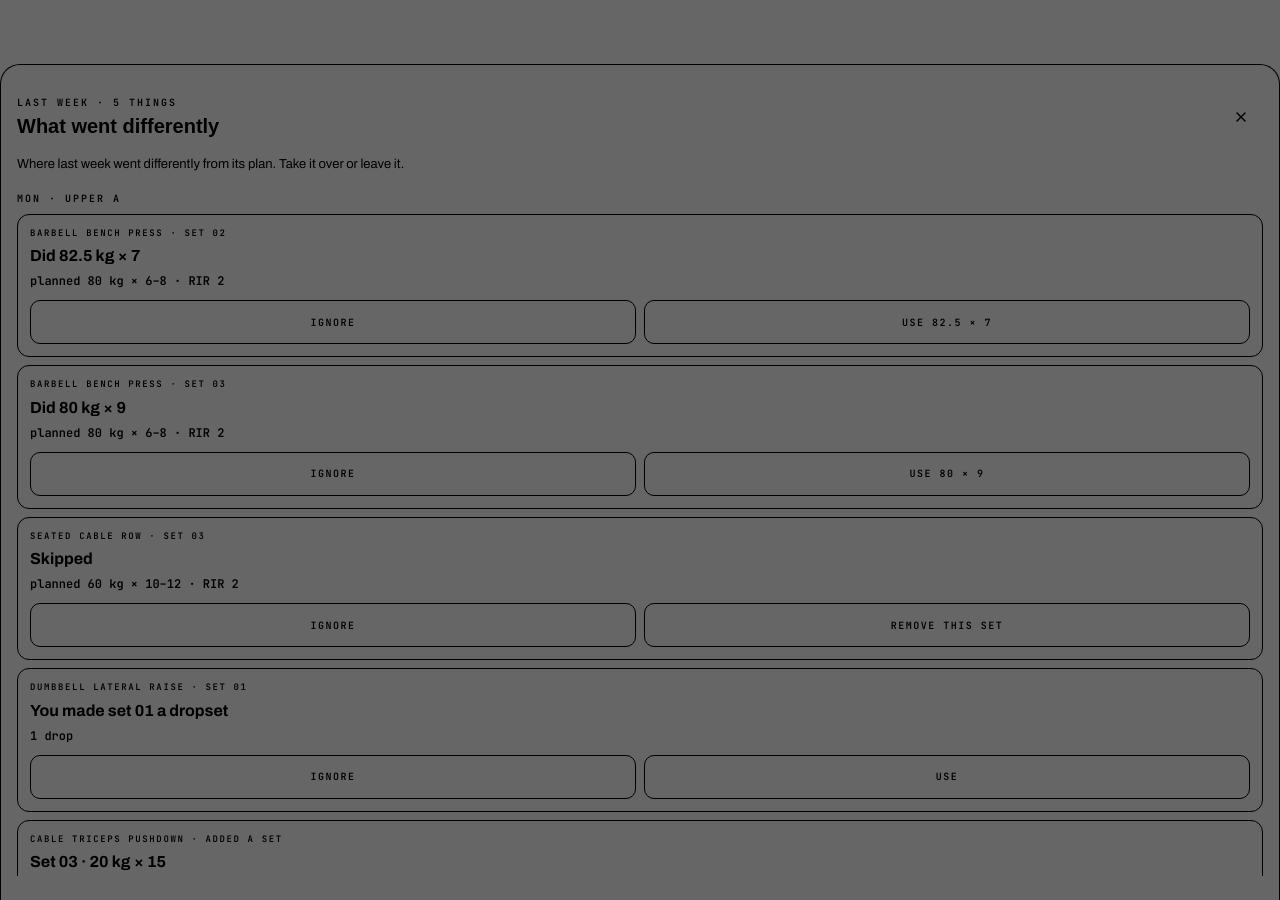
Test: W: each button writes what the board says and the item is gone for good › USE on the bench weight item: this week’s set 2 takes 82.5 × 7, one request holds the decision, the line counts 4
Check: the text "MON · UPPER A" is shown, box x1=17 y1=192 x2=121 y2=204
Click the button "USE 82.5 × 7". click: coordinates (947, 322)
box: x1=644 y1=300 x2=1250 y2=344
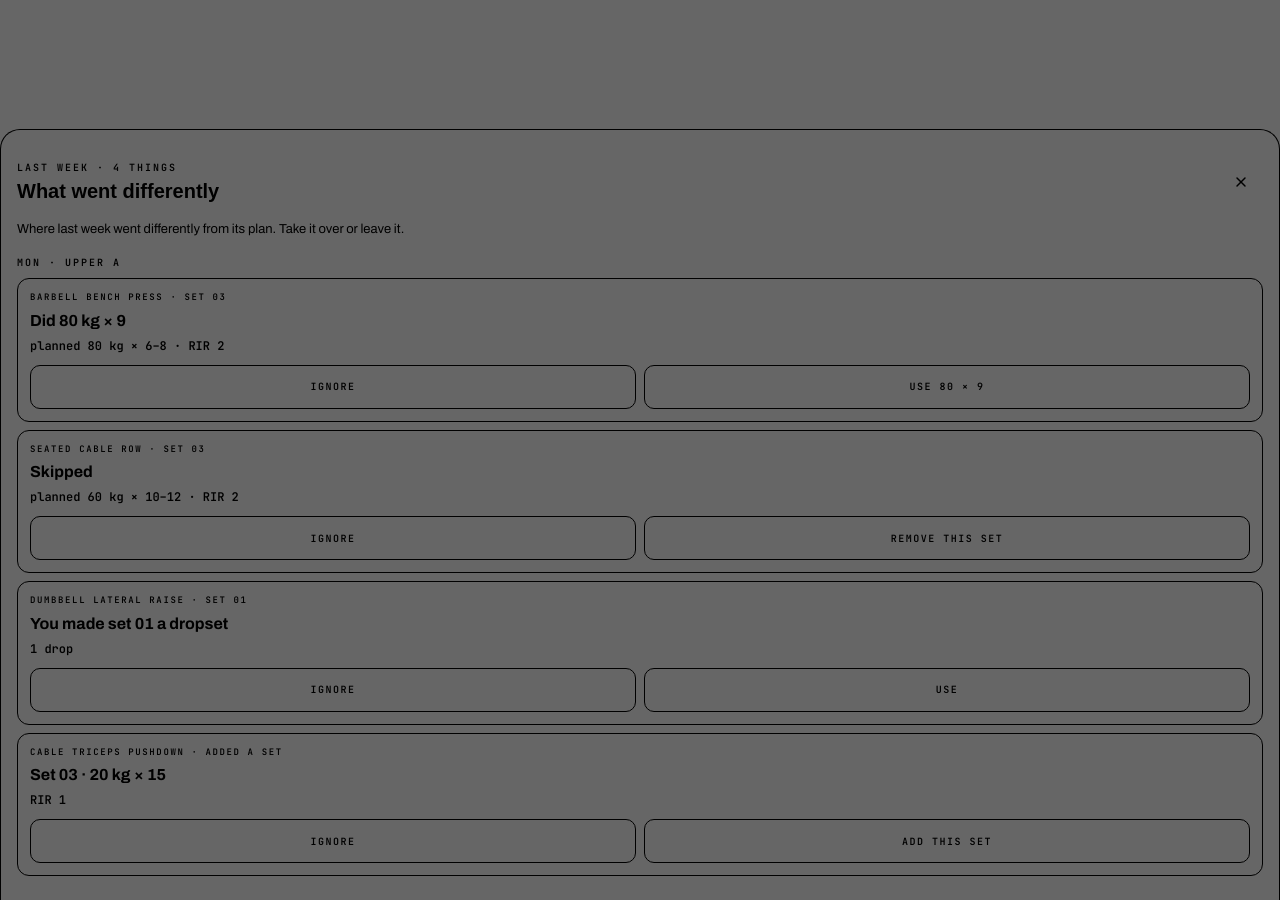
Check: the dialog shows "LAST WEEK · 4 THINGS", box x1=17 y1=160 x2=177 y2=174
